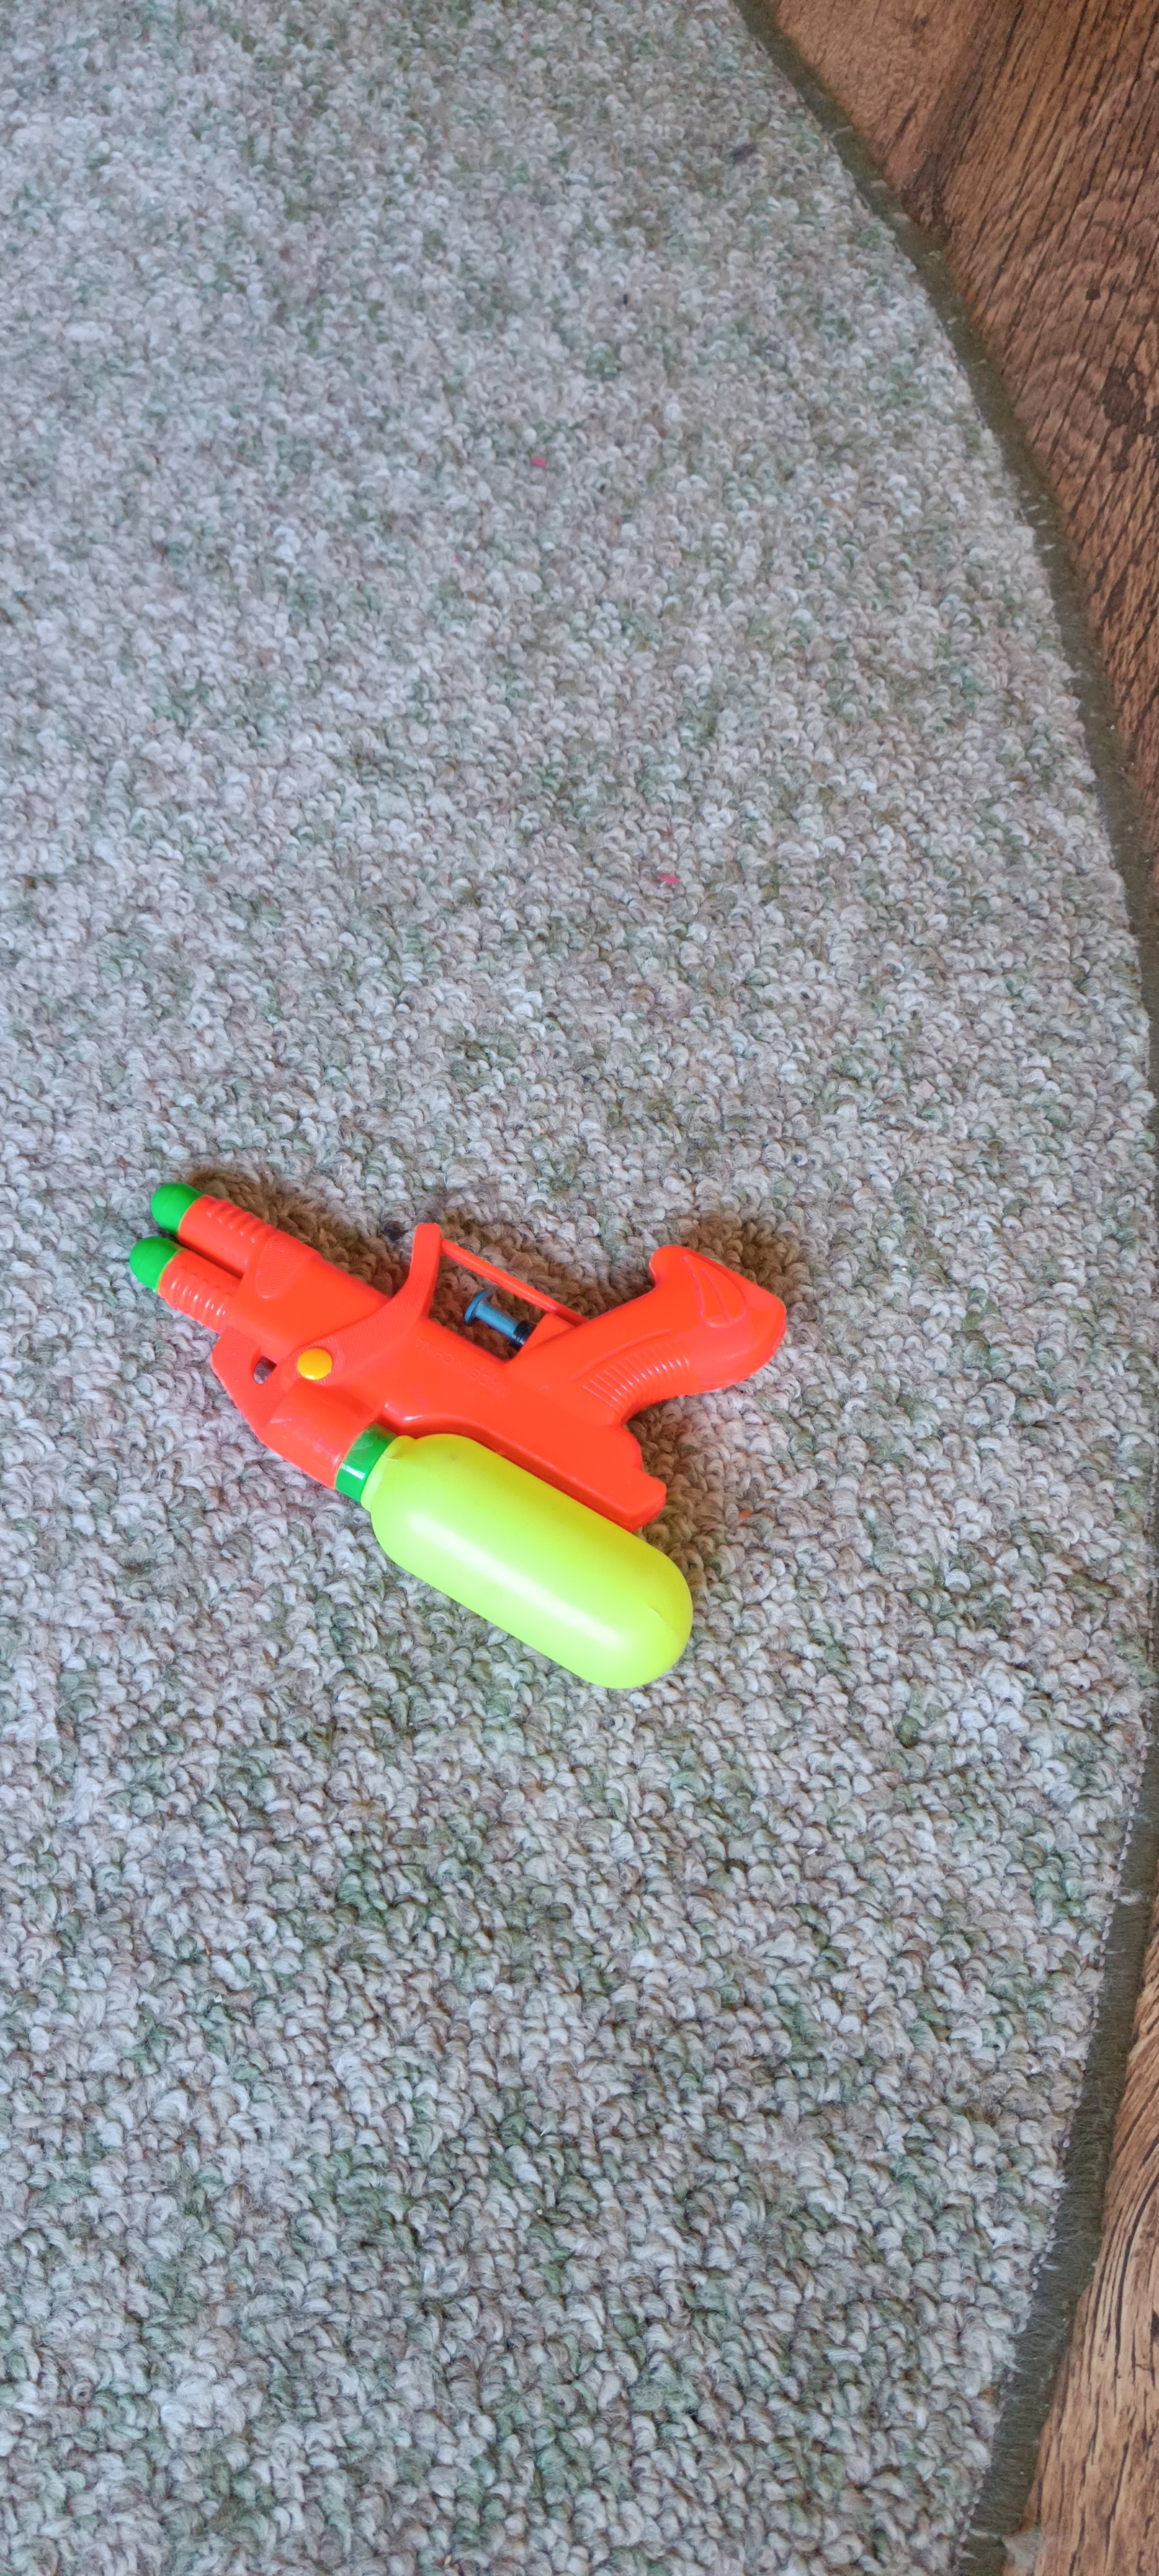Water Gun: (130, 1181, 790, 1687)
